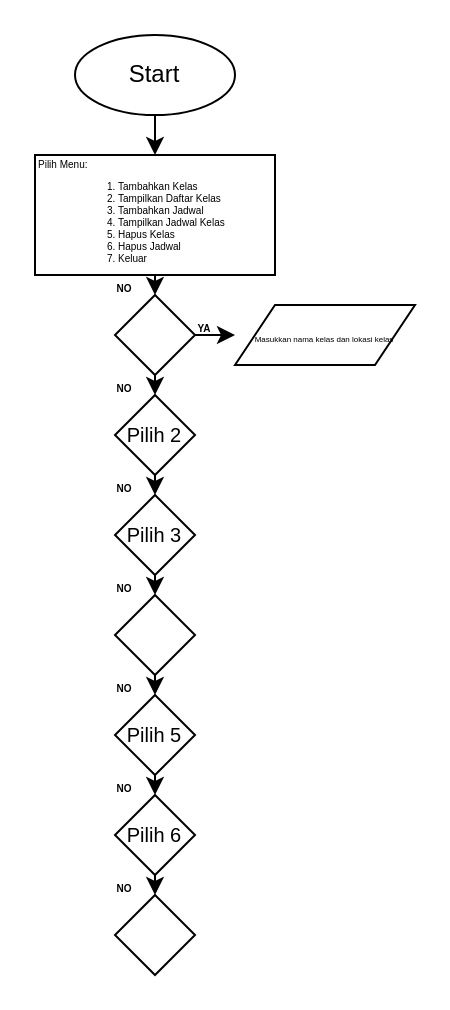
Some shapes in this 450 by 1010 pixel diagram are drawn without their labels. The box of each missing label's shape, as (x1, y1, x2, y2) in pixels:
Pilih 1: (113, 293, 195, 375)
Pilih 4: (113, 593, 195, 675)
Pilih 7: (113, 893, 195, 975)
